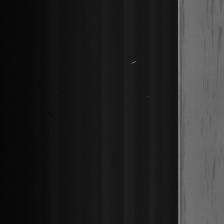inclusion: (200, 2, 223, 185), (179, 2, 187, 221)
